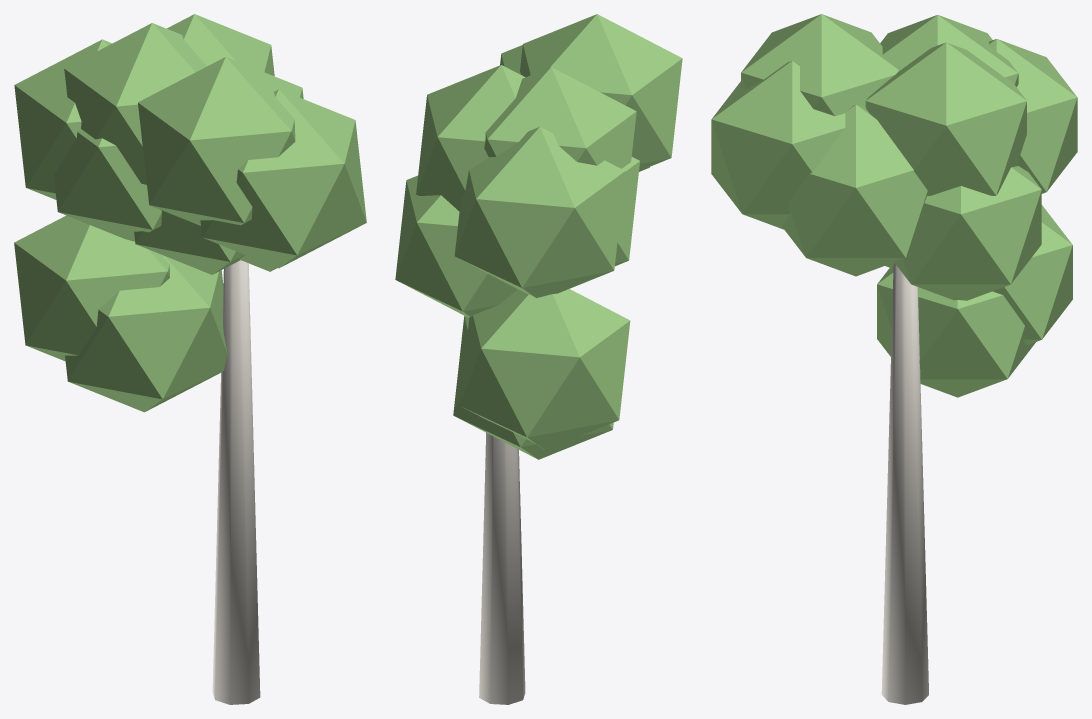
Rendered from birch.glb.
The picture shows the model from 3 angles, left to right: view 1: azimuth 30°, elevation 25°; view 2: azimuth 150°, elevation 25°; view 3: azimuth 270°, elevation 25°; orthographic projection. The views are drawn at different scales.
Parts seen in each view (by area): view 1: Leaves_8, Trunk, Leaves_9, Leaves_3, Leaves_6, Leaves_7, Leaves_11, Leaves_5, Leaves_4, Leaves_2; view 2: Leaves_6, Leaves_5, Leaves_8, Trunk, Leaves_7, Leaves_2, Leaves_0, Leaves_9, Leaves_11, Leaves_3; view 3: Leaves_2, Trunk, Leaves_10, Leaves_3, Leaves_0, Leaves_9, Leaves_8, Leaves_5, Leaves_6, Leaves_7.
Part boxes in pixels (x1,y1,x2,y2): Leaves_8: [138, 57, 303, 225]; Trunk: [212, 260, 260, 704]; Leaves_9: [65, 254, 227, 412]; Leaves_3: [200, 89, 366, 268]; Leaves_6: [14, 215, 169, 361]; Leaves_7: [64, 23, 206, 185]; Leaves_11: [53, 129, 161, 241]; Leaves_5: [14, 39, 111, 199]; Leaves_4: [134, 210, 244, 274]; Leaves_2: [167, 14, 274, 76]; Leaves_6: [459, 289, 630, 449]; Leaves_5: [454, 127, 625, 297]; Leaves_8: [520, 14, 682, 170]; Trunk: [479, 433, 525, 704]; Leaves_7: [484, 67, 636, 168]; Leaves_2: [416, 65, 525, 211]; Leaves_0: [395, 175, 517, 317]; Leaves_9: [453, 316, 613, 459]; Leaves_11: [615, 157, 639, 266]; Leaves_3: [500, 45, 649, 171]; Leaves_2: [865, 42, 1026, 195]; Trunk: [881, 263, 928, 704]; Leaves_10: [782, 104, 927, 276]; Leaves_3: [711, 61, 845, 229]; Leaves_0: [894, 166, 1041, 300]; Leaves_9: [877, 268, 1035, 397]; Leaves_8: [741, 14, 898, 116]; Leaves_5: [989, 39, 1077, 193]; Leaves_6: [992, 205, 1072, 345]; Leaves_7: [880, 15, 1018, 86].
Size of what is drawn, in the model's own units: 3.51 by 9.15 by 4.63.
